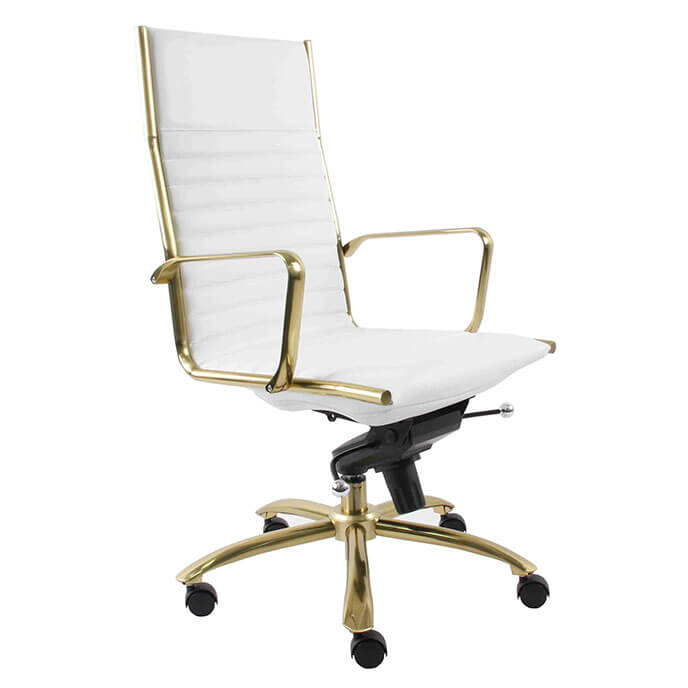chairs: (134, 20, 555, 672)
